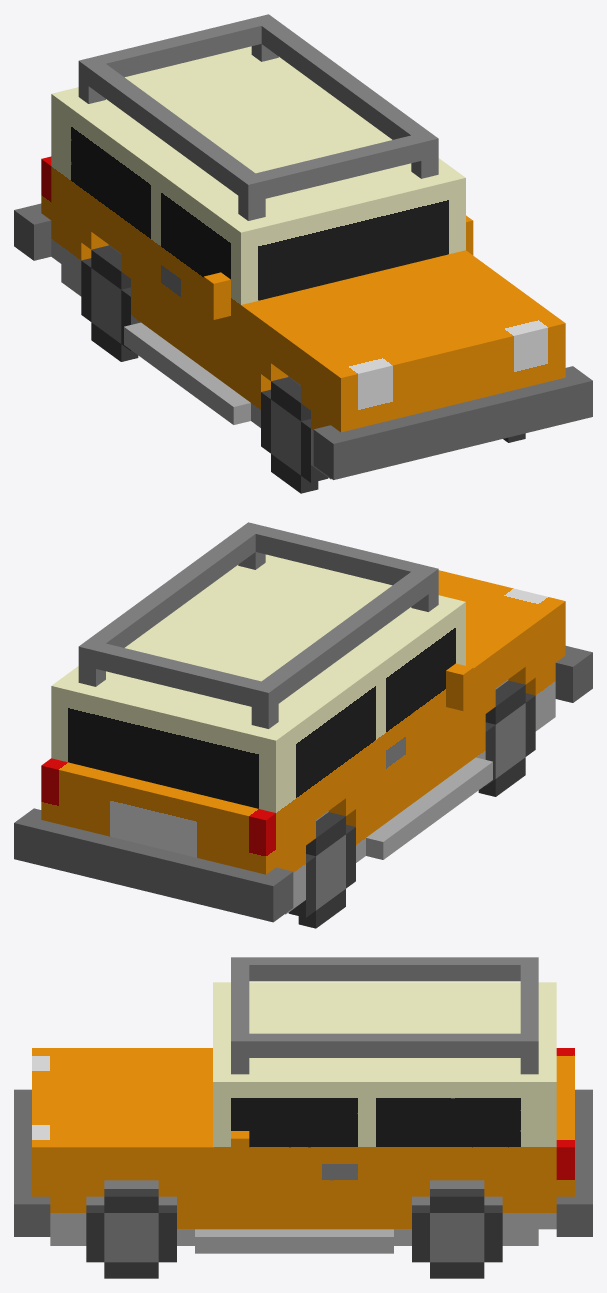
Rendered from veh_suv3.dae.
The picture shows the model from 3 angles, top to bottom: view 1: azimuth 30°, elevation 25°; view 2: azimuth 150°, elevation 25°; view 3: azimuth 270°, elevation 25°; orthographic projection. The views are drawn at different scales.
Parts seen in each view (by area): view 1: veh_suv3; view 2: veh_suv3; view 3: veh_suv3.
Part boxes in pixels (box(x1,y1,x2,y2)): veh_suv3: box(14, 14, 592, 493); veh_suv3: box(14, 522, 592, 928); veh_suv3: box(14, 957, 592, 1278).
Bounding box in the file's own units: 1.5 × 3.2 × 1.4.
Materials: 1 (1 with a texture image).
